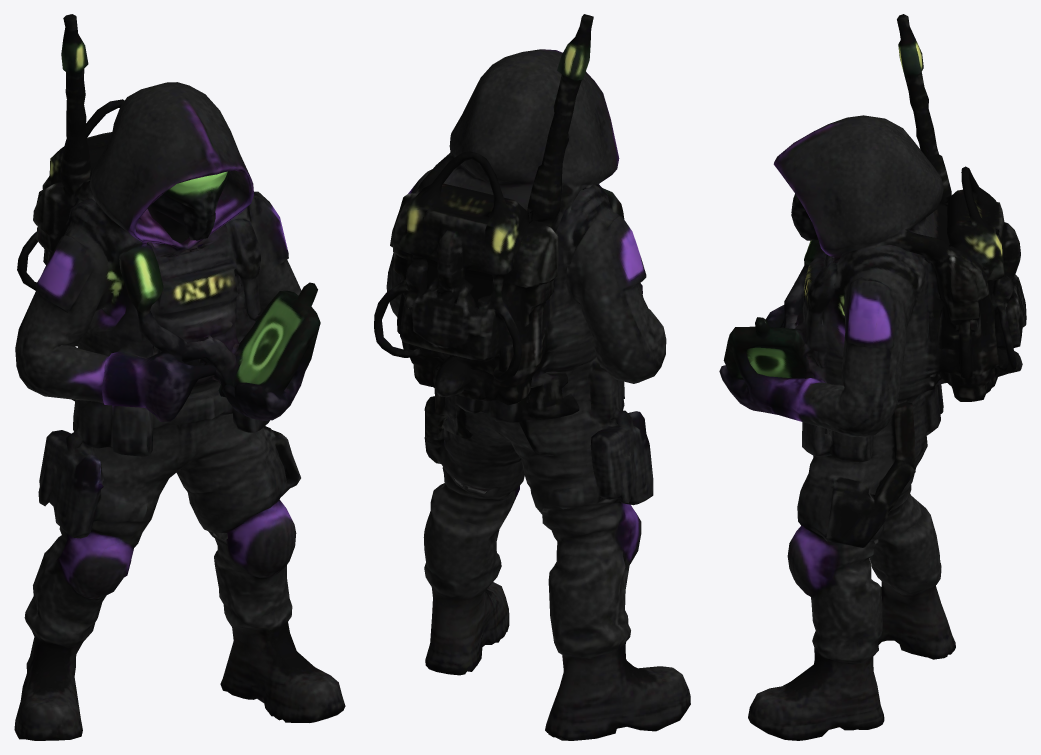
File: recon_l03.glb
The picture shows the model from 3 angles, left to right: view 1: azimuth 30°, elevation 25°; view 2: azimuth 150°, elevation 25°; view 3: azimuth 270°, elevation 25°; orthographic projection. The views are drawn at different scales.
Visible parts, largest first — view 1: world; view 2: world; view 3: world.
Part boxes in pixels (x1=…): world: x1=14, y1=14, x2=345, y2=740; world: x1=374, y1=14, x2=690, y2=740; world: x1=719, y1=14, x2=1026, y2=740.
Size of the model in its own units: 0.4288 by 1 by 0.4383.
Materials: 1 (1 with a texture image).
